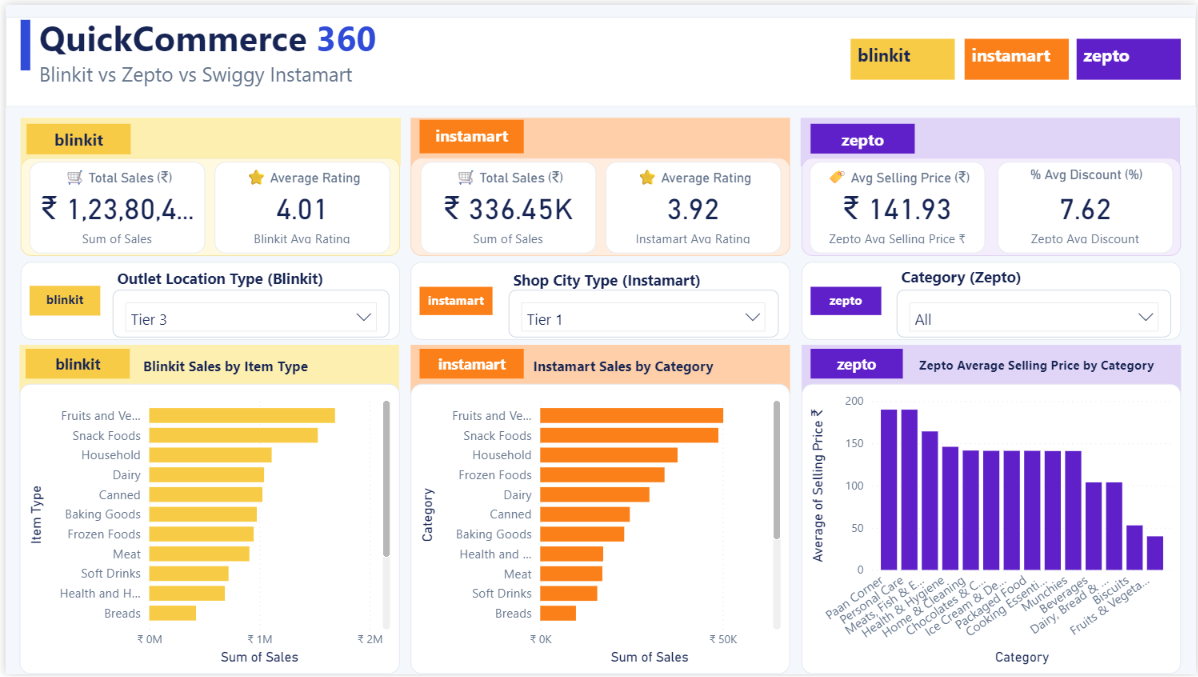

What the dashboard file says about the page in this screenshot:
{"tool":"powerbi","page":{"name":"Executive Overview","canvas":[1280,720],"ordinal":0},"visuals":[{"type":"textbox","box":[0,12.9,1280,97.1],"z":1000},{"type":"textbox","box":[16,16,6,54],"z":2000},{"type":"textbox","box":[31.4,5.7,640,104.3],"z":3000},{"type":"textbox","box":[908.1,36.2,111.9,43.8],"z":4000},{"type":"textbox","box":[1031.2,36.2,111.9,43.8],"z":5000},{"type":"textbox","box":[1151.9,36.2,111.9,43.8],"z":6000},{"type":"textbox","box":[15.6,121.2,408.8,51.9],"z":7000},{"type":"textbox","box":[22.4,128.2,112.4,32.9],"z":8000},{"type":"textbox","box":[15.9,164.7,408.2,105.9],"z":9000},{"type":"card","title":"🛒  Total Sales (₹)","fields":{"Values":["Sum(Blinkit.Sales)"]},"box":[26,169,189,98],"z":10000},{"type":"card","title":"⭐  Average Rating","fields":{"Values":["Blinkit.Blinkit Avg Rating"]},"box":[225,169,189,98],"z":11000},{"type":"textbox","box":[15.9,275.9,408.2,84.1],"z":12000},{"type":"textbox","box":[25.9,302.4,75.9,31.8],"z":13000},{"type":"textbox","box":[114.6,277.7,297.7,34.6],"z":14000},{"type":"slicer","fields":{"Values":["Blinkit.Outlet Location Type"]},"box":[115,306.2,297.5,51.2],"z":15000},{"type":"textbox","box":[15.3,365.9,408.2,51.8],"z":16000},{"type":"textbox","box":[21.8,370,112.4,32.4],"z":17000},{"type":"textbox","box":[142.7,372.7,271.3,30],"z":18000},{"type":"clusteredBarChart","fields":{"Category":["Blinkit.Item Type"],"Y":["Sum(Blinkit.Sales)"]},"box":[15.6,407.8,408.9,312.2],"z":19000},{"type":"textbox","box":[435.9,121.2,408.2,51.8],"z":20000},{"type":"textbox","box":[445.3,124.1,112.4,35.9],"z":21000},{"type":"textbox","box":[435.9,164.1,408.2,105.9],"z":22000},{"type":"card","title":"🛒  Total Sales (₹)","fields":{"Values":["Sum(Instamart.Sales)"]},"box":[446,169,189,98],"z":23000},{"type":"card","title":"⭐  Average Rating","fields":{"Values":["Instamart.Instamart Avg Rating"]},"box":[645,169,189,98],"z":24000},{"type":"textbox","box":[435.9,275.9,408.2,84.1],"z":25000},{"type":"textbox","box":[445.3,302.9,78.2,30.6],"z":26000},{"type":"textbox","box":[540.8,280,297.7,31.5],"z":27000},{"type":"slicer","fields":{"Values":["Instamart.Shop City Type"]},"box":[540.8,306.2,290,51.5],"z":28000},{"type":"textbox","box":[435.9,365.9,408.2,51.8],"z":29000},{"type":"textbox","box":[445.3,370,112.4,32.4],"z":30000},{"type":"textbox","box":[562.7,372.7,276,30],"z":31000},{"type":"clusteredBarChart","fields":{"Category":["Instamart.Category"],"Y":["Sum(Instamart.Sales)"]},"box":[435.9,407.6,408.2,312.4],"z":32000},{"type":"textbox","box":[855.3,121.2,408.2,51.8],"z":33000},{"type":"textbox","box":[865.3,128.2,112.4,32.4],"z":34000},{"type":"textbox","box":[855.9,164.1,408.2,105.9],"z":35000},{"type":"card","title":"🏷️  Avg Selling Price (₹)","fields":{"Values":["zepto.Zepto Avg Selling Price ₹"]},"box":[865,169,189,98],"z":36000},{"type":"card","title":"%  Avg Discount (%)","fields":{"Values":["zepto.Zepto Avg Discount"]},"box":[1067,169,189,98],"z":37000},{"type":"textbox","box":[855.9,276.5,408.2,84.1],"z":38000},{"type":"textbox","box":[865.3,303.5,75.9,30.6],"z":39000},{"type":"textbox","box":[957.7,276.2,298.5,31.5],"z":40000},{"type":"slicer","fields":{"Values":["zepto.Category"]},"box":[957.7,306.2,295.4,51.5],"z":41000},{"type":"textbox","box":[855.9,365.9,408.2,51.8],"z":42000},{"type":"textbox","box":[865.3,370,98.8,32.4],"z":43000},{"type":"textbox","box":[977.3,372.7,276,30],"z":44000},{"type":"clusteredColumnChart","fields":{"Category":["zepto.Category"],"Y":["Avg(zepto.Selling Price ₹)"]},"box":[855.9,407.6,408.2,312.4],"z":45000}]}

Visuals, with their boxes in screenshot pixels (x1, y1, x2, y2), scaled from the page's 1280x720 canvas onto the 1198x677 screenshot:
textbox: detection(0, 12, 1197, 103)
textbox: detection(15, 15, 21, 66)
textbox: detection(29, 5, 628, 103)
textbox: detection(850, 34, 955, 75)
textbox: detection(965, 34, 1070, 75)
textbox: detection(1078, 34, 1183, 75)
textbox: detection(15, 114, 397, 163)
textbox: detection(21, 121, 126, 151)
textbox: detection(15, 155, 397, 254)
"🛒  Total Sales (₹)" card: detection(24, 159, 201, 251)
"⭐  Average Rating" card: detection(211, 159, 387, 251)
textbox: detection(15, 259, 397, 338)
textbox: detection(24, 284, 95, 314)
textbox: detection(107, 261, 386, 294)
slicer - Blinkit.Outlet Location Type: detection(108, 288, 386, 336)
textbox: detection(14, 344, 396, 393)
textbox: detection(20, 348, 126, 378)
textbox: detection(134, 350, 387, 379)
clusteredBarChart - Blinkit.Item Type x Sum(Blinkit.Sales): detection(15, 383, 397, 676)
textbox: detection(408, 114, 790, 163)
textbox: detection(417, 117, 522, 150)
textbox: detection(408, 154, 790, 254)
"🛒  Total Sales (₹)" card: detection(417, 159, 594, 251)
"⭐  Average Rating" card: detection(604, 159, 781, 251)
textbox: detection(408, 259, 790, 338)
textbox: detection(417, 285, 490, 314)
textbox: detection(506, 263, 785, 293)
slicer - Instamart.Shop City Type: detection(506, 288, 778, 336)
textbox: detection(408, 344, 790, 393)
textbox: detection(417, 348, 522, 378)
textbox: detection(527, 350, 785, 379)
clusteredBarChart - Instamart.Category x Sum(Instamart.Sales): detection(408, 383, 790, 676)
textbox: detection(801, 114, 1183, 163)
textbox: detection(810, 121, 915, 151)
textbox: detection(801, 154, 1183, 254)
"🏷️  Avg Selling Price (₹)" card: detection(810, 159, 986, 251)
"%  Avg Discount (%)" card: detection(999, 159, 1176, 251)
textbox: detection(801, 260, 1183, 339)
textbox: detection(810, 285, 881, 314)
textbox: detection(896, 260, 1176, 289)
slicer - zepto.Category: detection(896, 288, 1173, 336)
textbox: detection(801, 344, 1183, 393)
textbox: detection(810, 348, 902, 378)
textbox: detection(915, 350, 1173, 379)
clusteredColumnChart - zepto.Category x Avg(zepto.Selling Price ₹): detection(801, 383, 1183, 676)
